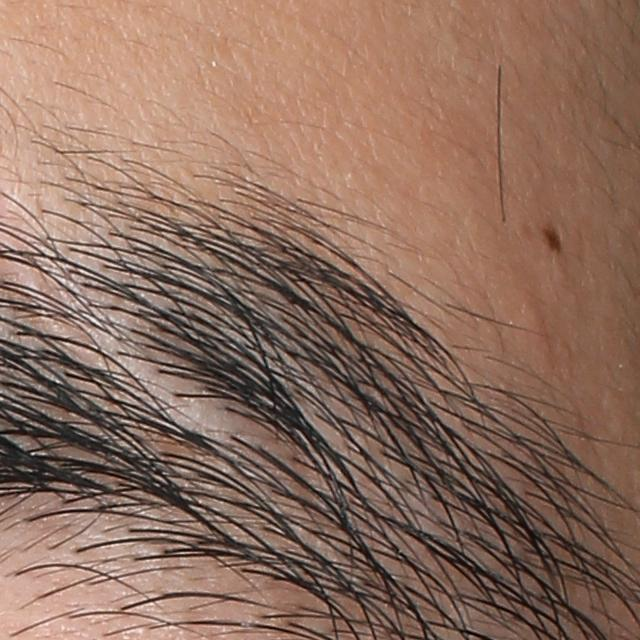nevus: (541, 227, 562, 255)
